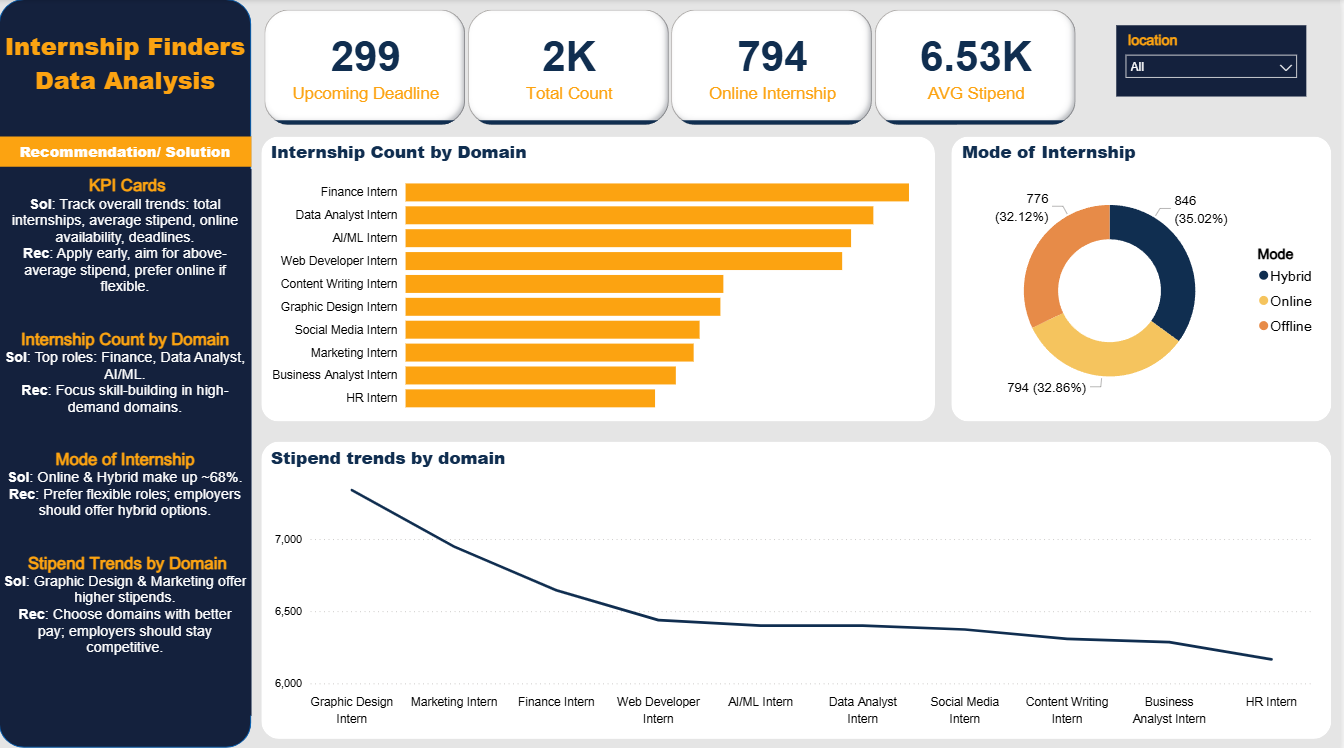

The dashboard page shown, as its layout file describes it:
{"tool":"powerbi","page":{"name":"Internship Dashboard","canvas":[1500,840],"ordinal":0},"visuals":[{"type":"shape","box":[9.7,0,280.6,831.9],"z":0},{"type":"textbox","box":[9.7,27.8,280.6,102.8],"z":1000},{"type":"shape","box":[301.4,152.8,748.6,316.7],"z":2000},{"type":"clusteredBarChart","title":"Internship Count by Domain","fields":{"Category":["large_sample_internships.title"],"Y":["large_sample_internships.Total_Count"]},"box":[306.9,155.6,737.5,313.9],"z":3000},{"type":"shape","box":[1068.1,152.8,422.2,316.7],"z":4000},{"type":"donutChart","title":"Mode of Internship","fields":{"Category":["large_sample_internships.mode"],"Y":["large_sample_internships.Total_Count"]},"box":[1075,155.6,408.3,311.1],"z":5000},{"type":"cardVisual","fields":{"Data":["large_sample_internships.Upcoming Deadline","large_sample_internships.Total_Count","large_sample_internships.Online Internship","large_sample_internships.AVG Stipend"]},"box":[300,6.9,912.5,138.9],"z":6000},{"type":"shape","box":[301.4,491.7,1188.9,330.6],"z":7000},{"type":"lineChart","title":"Stipend trends by domain","fields":{"Y":["large_sample_internships.AVG Stipend"],"Category":["large_sample_internships.title"]},"box":[306.9,495.8,1176.4,320.8],"z":8000},{"type":"textbox","box":[9.7,152.8,280.6,33.3],"z":9000},{"type":"textbox","box":[9.7,188.9,280.6,606.9],"z":10000},{"type":"slicer","fields":{"Values":["large_sample_internships.location"]},"box":[1251.4,29.2,211.1,79.2],"z":11000}]}

Visuals, with their boxes in screenshot pixels (x1, y1, x2, y2), scaled from the page's 1500x840 canvas onto the 1344x748 screenshot:
shape: rect(9, 0, 260, 741)
textbox: rect(9, 25, 260, 116)
shape: rect(270, 136, 941, 418)
"Internship Count by Domain" clusteredBarChart: rect(275, 139, 936, 418)
shape: rect(957, 136, 1335, 418)
"Mode of Internship" donutChart: rect(963, 139, 1329, 416)
cardVisual - large_sample_internships.Upcoming Deadline x large_sample_internships.Total_Count: rect(269, 6, 1086, 130)
shape: rect(270, 438, 1335, 732)
"Stipend trends by domain" lineChart: rect(275, 441, 1329, 727)
textbox: rect(9, 136, 260, 166)
textbox: rect(9, 168, 260, 709)
slicer - large_sample_internships.location: rect(1121, 26, 1310, 97)
